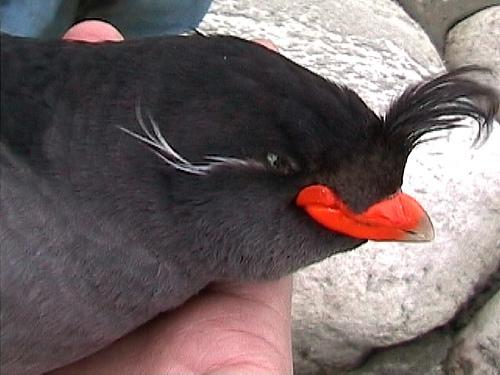005.Crested_Auklet: (1, 31, 497, 375)
